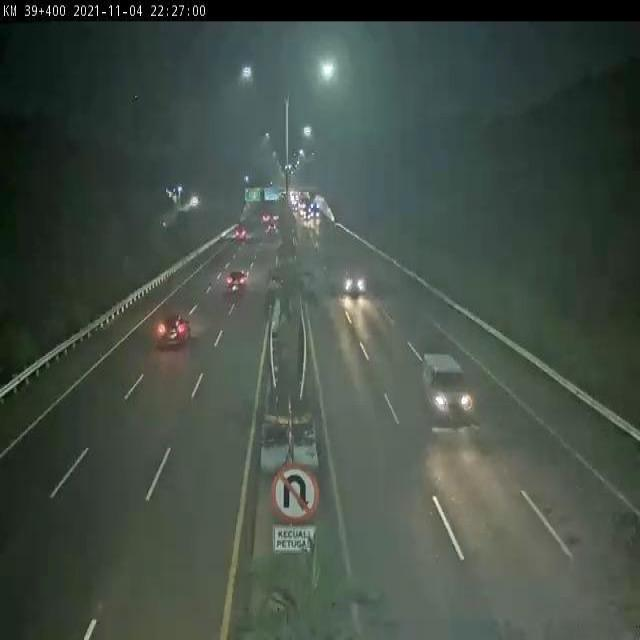car: (420, 345, 471, 423), (155, 309, 192, 348), (343, 263, 368, 297), (226, 265, 249, 295)
